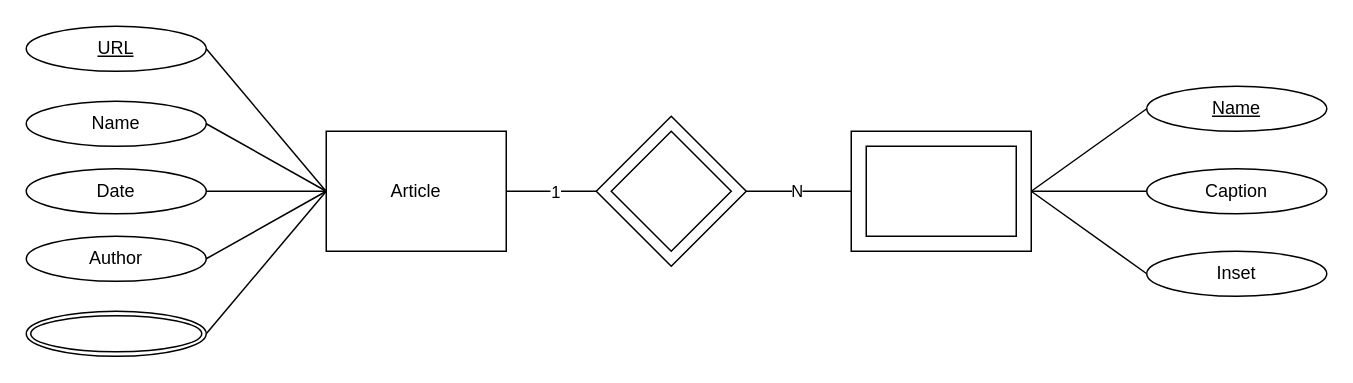
The diagram is 1353 pixels wide and 383 high, and some of its shapes have lost their labels. The shapes that lost their labels are listed below. From the top down, each one's box as (x1, y1, x2, y2) in pixels, then its label:
(610, 130, 731, 251): Contains
(850, 130, 1031, 251): Image
(25, 310, 206, 356): Categories
